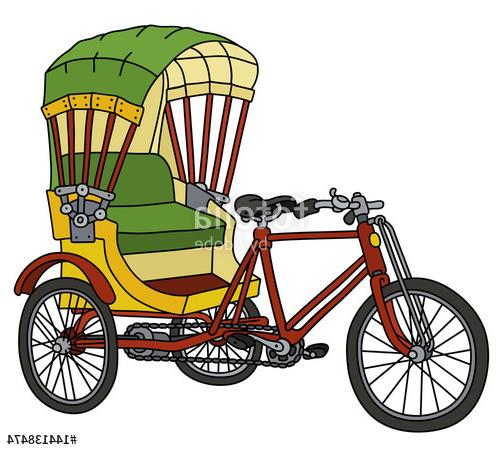Rickshaw: (17, 27, 496, 415)
